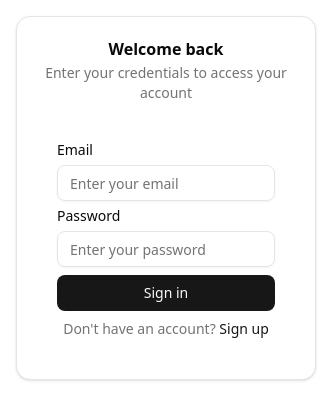
Login › should show loading state when submitting
This screenshot has width=333, height=398.
Type "test@example.com" into the field labelled "Email" at (166, 183), box [57,165,275,201]
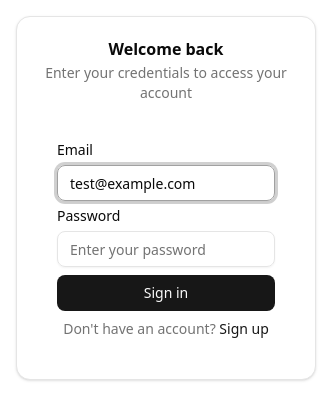
Type "password123" into the password field labelled "Password" at (166, 249), box [57,231,275,267]
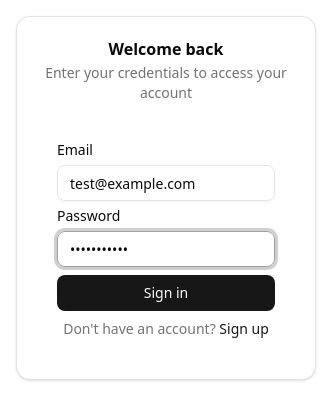
Click the button "Sign in" at (166, 293), box [57,275,275,311]
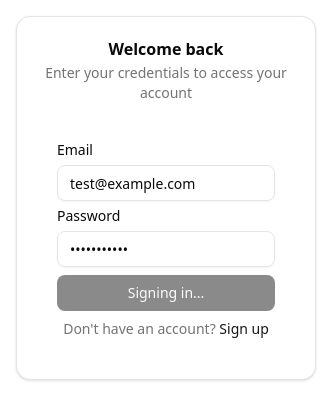
expect the button "Signing in..." is disabled: met, box [57,275,275,311]
